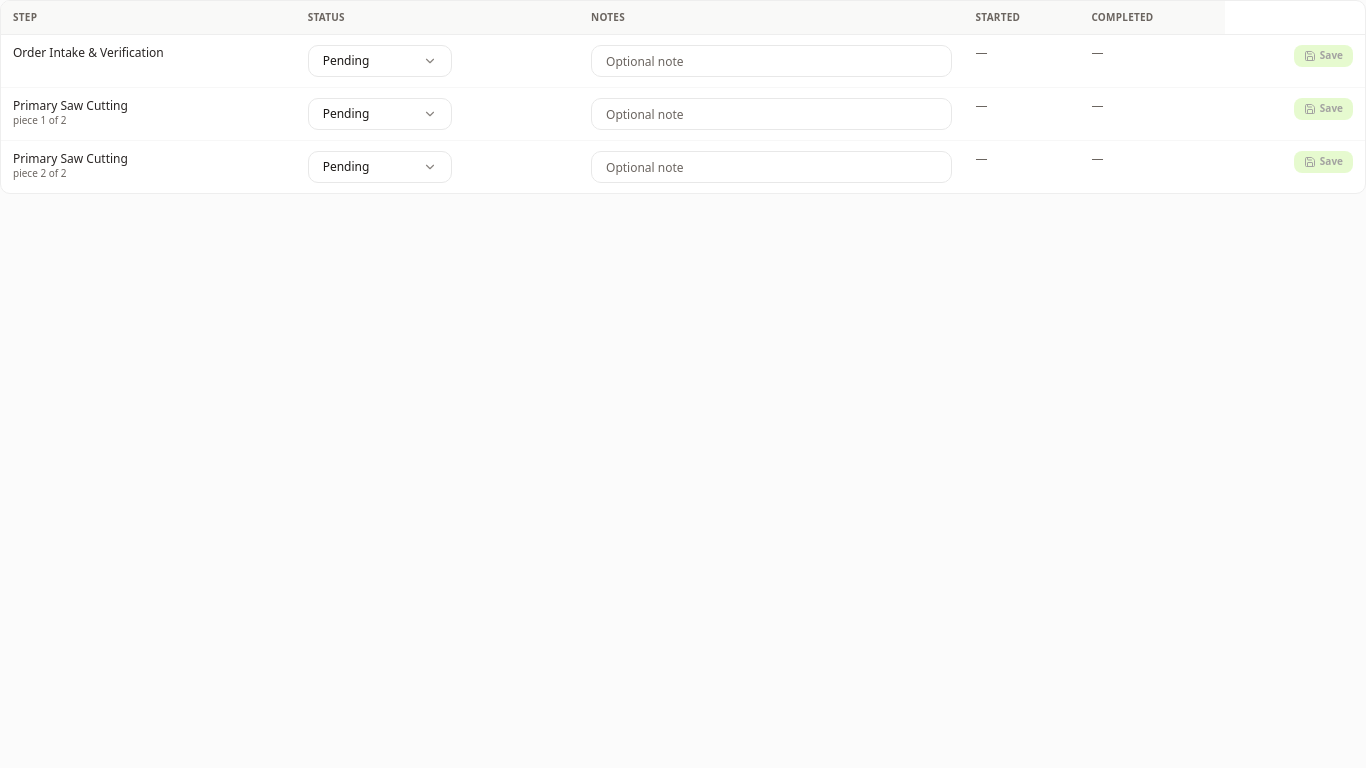
Scenario: FabricationStepsTab › requires a note to skip a step, per row
This screenshot has width=1366, height=768.
Click the dropdown named "Status for Primary Saw Cutting (piece 1 of 2)". click: (380, 114)
box: [308, 98, 452, 130]
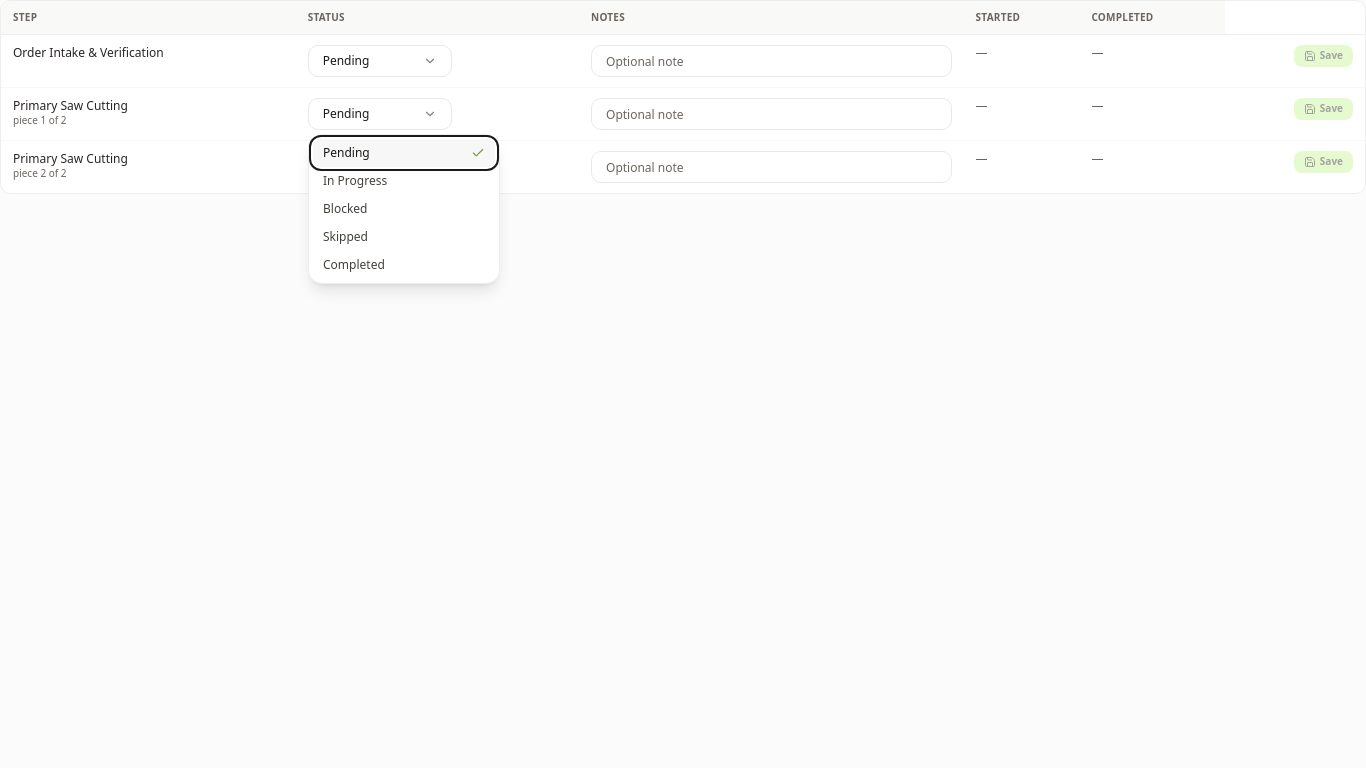
Click the option "Skipped". click: (404, 237)
box: [313, 223, 495, 251]
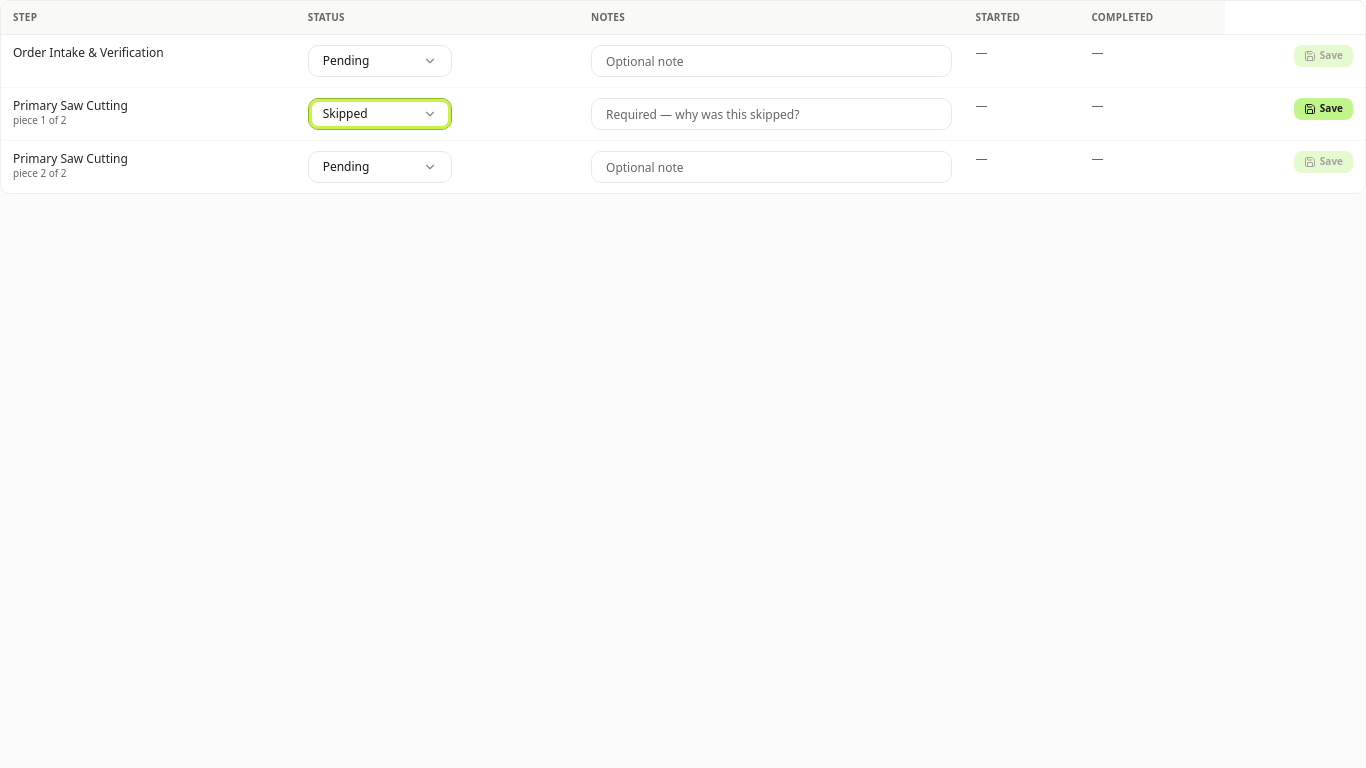
Click the button with aria-label "Save Primary Saw Cutting (piece 1 of 2)". click: (1323, 109)
box: [1294, 98, 1353, 120]
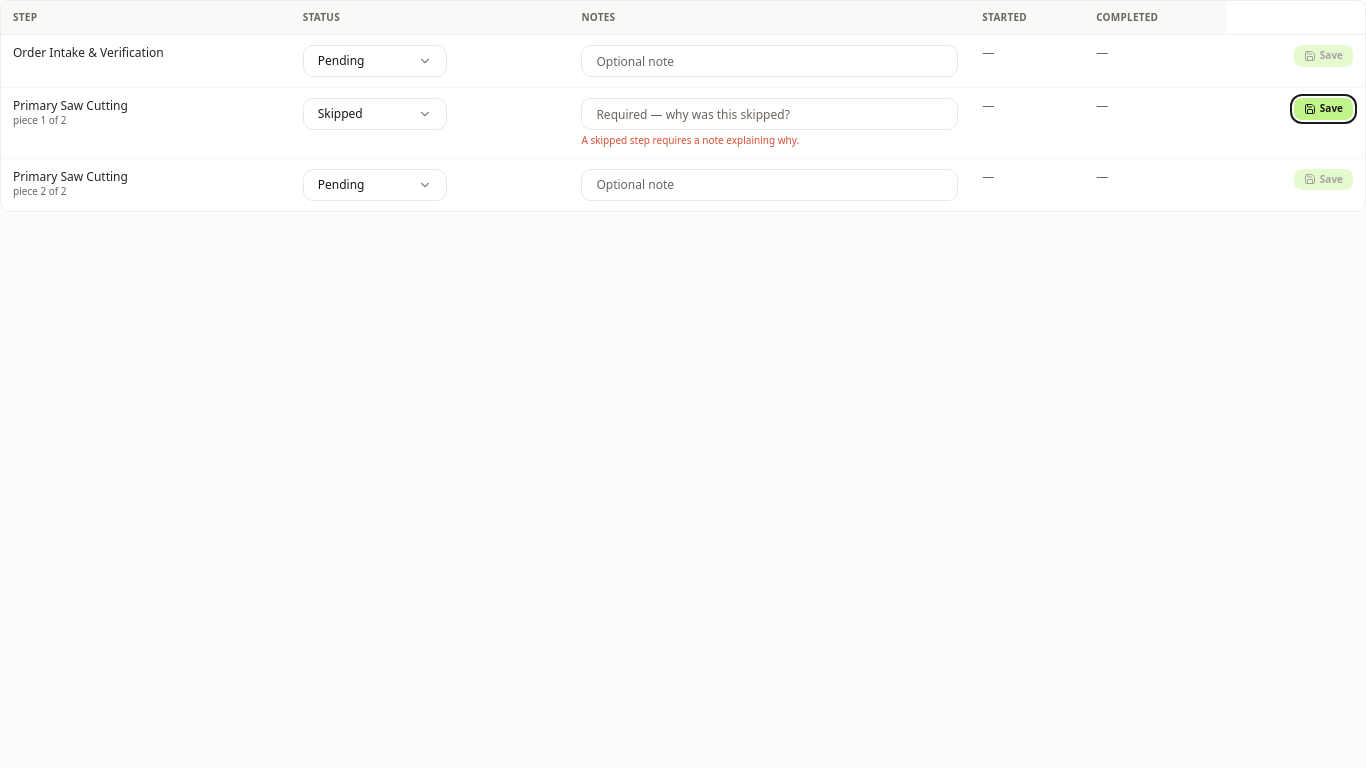
Now the text "A skipped step requires a note explaining why." is shown, box [581, 133, 799, 147]
